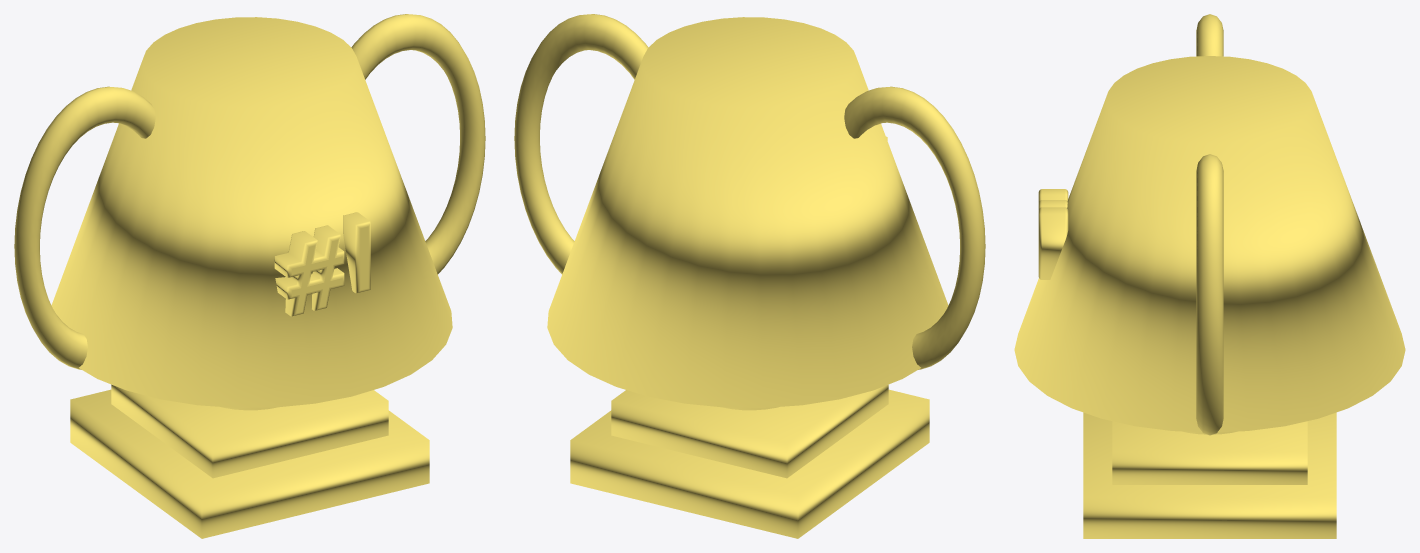
The model's file is winners_cup.glb.
The picture shows the model from 3 angles, left to right: view 1: azimuth 30°, elevation 25°; view 2: azimuth 150°, elevation 25°; view 3: azimuth 270°, elevation 25°; orthographic projection. The views are drawn at different scales.
Parts seen in each view (by area): view 1: WinnerCup_Pro; view 2: WinnerCup_Pro; view 3: WinnerCup_Pro.
Part boxes in pixels (x1,y1,x2,y2): WinnerCup_Pro: (14,14,485,538); WinnerCup_Pro: (514,14,985,538); WinnerCup_Pro: (1014,14,1405,538).
Size of the model in its own units: 2.26 by 1.9 by 1.7.
